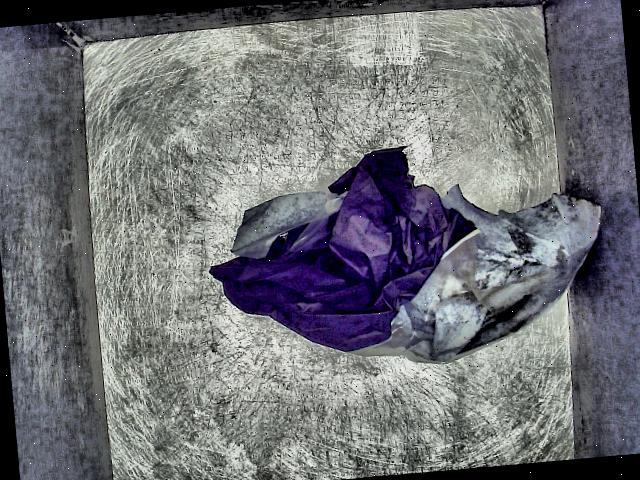Paper: (175, 126, 620, 390)
